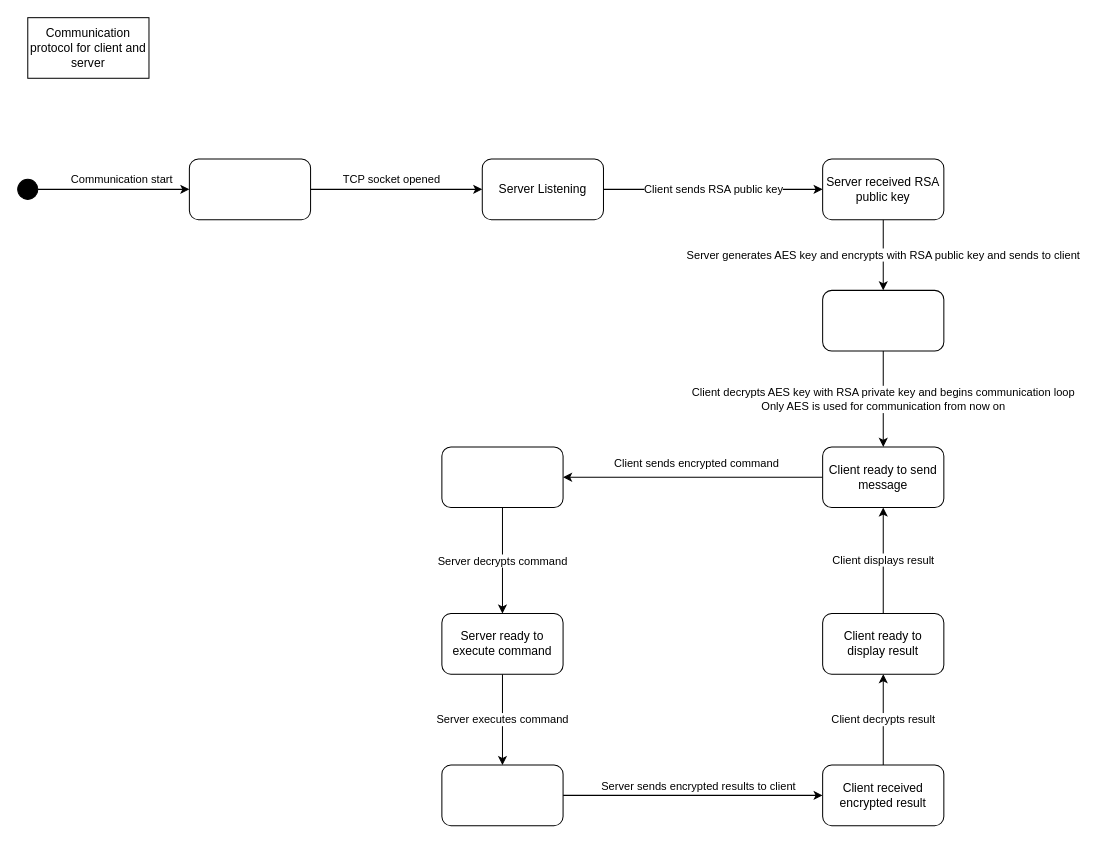
This 1098x843 diagram has some shape labels left out. Here are the shapes that lost their labels. From the top down, the box of each, then its label:
(188, 158, 311, 220): Not connected
(822, 289, 944, 351): Client received encrypted AES key
(441, 446, 563, 508): Server received encrypted command
(441, 764, 563, 826): Server computed command execution result
